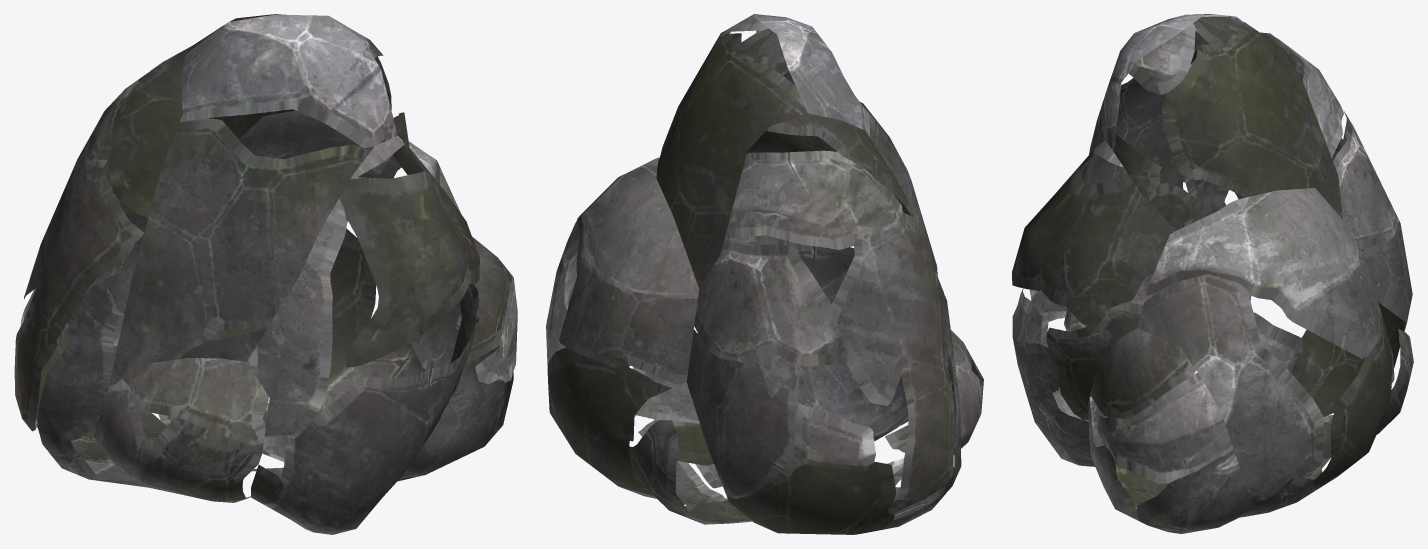
The picture shows the model from 3 angles, left to right: view 1: azimuth 30°, elevation 25°; view 2: azimuth 150°, elevation 25°; view 3: azimuth 270°, elevation 25°; orthographic projection. The views are drawn at different scales.
Parts seen in each view (by area): view 1: SM_Small_Boulder_03v2_LOD0; view 2: SM_Small_Boulder_03v2_LOD0; view 3: SM_Small_Boulder_03v2_LOD0.
Part boxes in pixels (x1,y1,x2,y2): SM_Small_Boulder_03v2_LOD0: (14,14,517,534); SM_Small_Boulder_03v2_LOD0: (546,14,983,534); SM_Small_Boulder_03v2_LOD0: (1012,14,1413,533).
Size of the model in its own units: 1.77 by 1.86 by 1.49.
